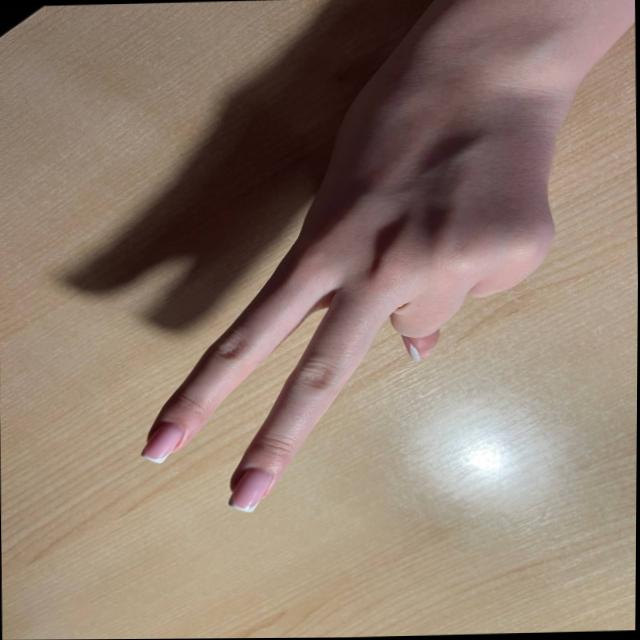l: (135, 119, 554, 519)
